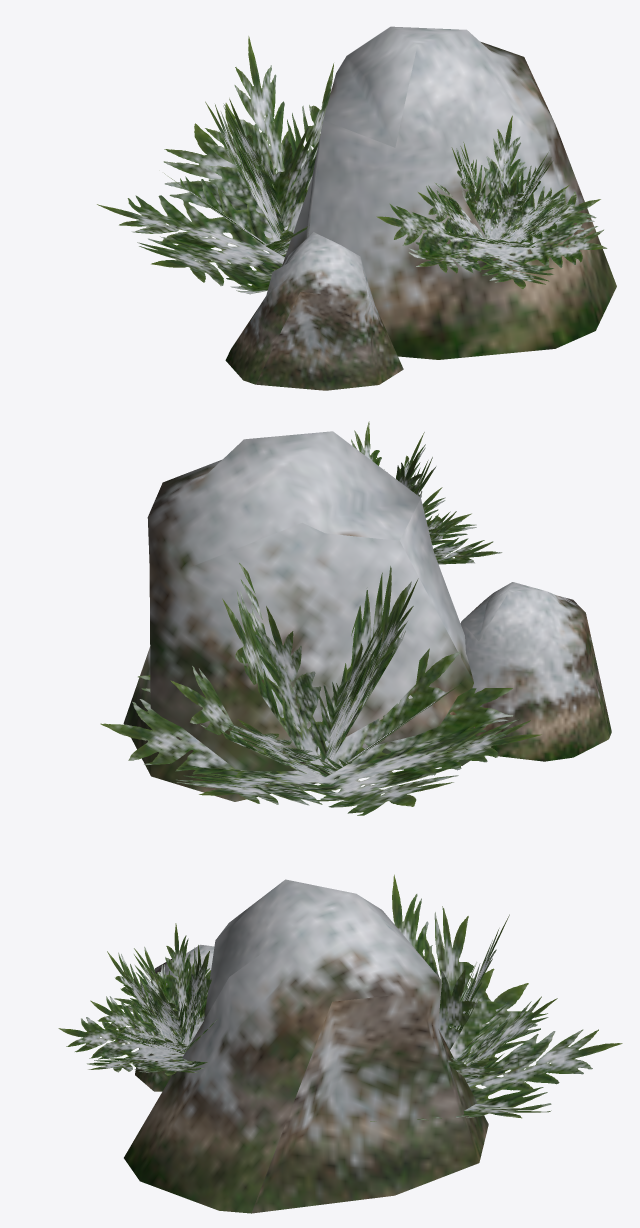
The model's file is stone1.dae.
3 views of the same model, one above another, from view 1: azimuth 30°, elevation 25°; view 2: azimuth 150°, elevation 25°; view 3: azimuth 270°, elevation 25° (orthographic). The views are drawn at different scales.
Visible parts, largest first — view 1: Untitled; view 2: Untitled; view 3: Untitled.
Part boxes in pixels (x1,y1,x2,y2): Untitled: (97,26,616,390); Untitled: (100,421,611,815); Untitled: (58,874,622,1213).
Bounding box in the file's own units: 1.61 × 2.17 × 0.9844.
Materials: 2 (2 with a texture image).
